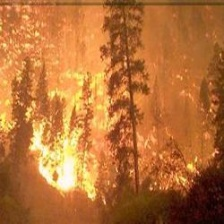fire: (1, 38, 123, 207)
